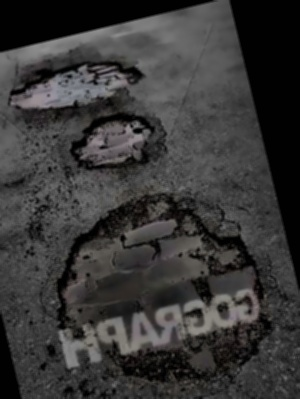pothole: (31, 165, 288, 399), (3, 47, 148, 116), (62, 103, 163, 179)
